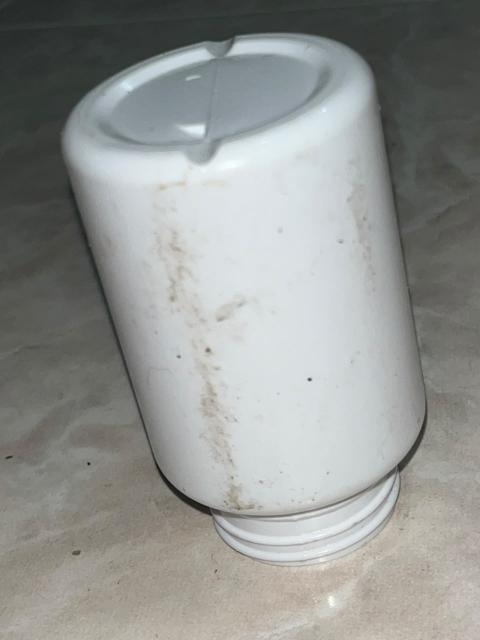HDPE: (58, 41, 441, 525)
